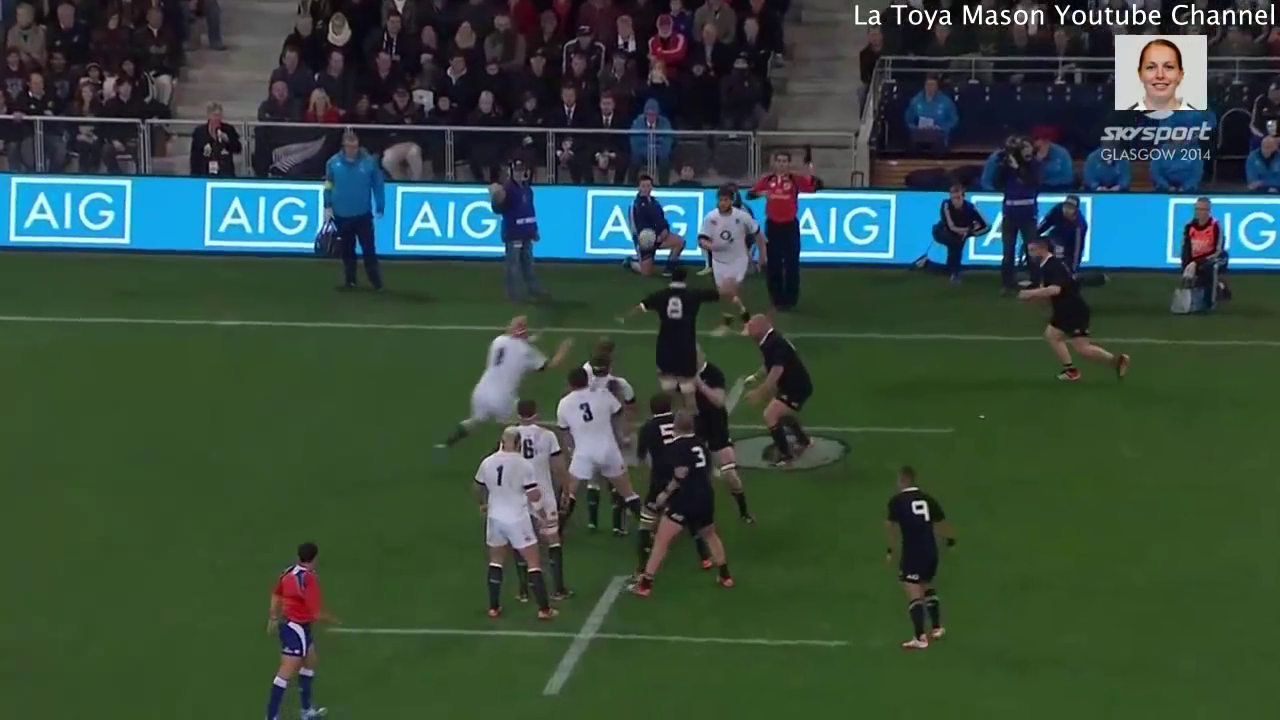10_metre: (310, 569, 857, 704), (577, 367, 963, 472)
player: (622, 407, 752, 600), (541, 363, 650, 559), (435, 304, 570, 461), (457, 414, 555, 628), (1008, 232, 1136, 386), (869, 452, 962, 660), (255, 536, 343, 720), (743, 141, 829, 328), (506, 396, 582, 602), (605, 263, 725, 388), (682, 343, 761, 530), (729, 299, 816, 460), (691, 185, 761, 341), (625, 380, 681, 501), (582, 339, 626, 408)
